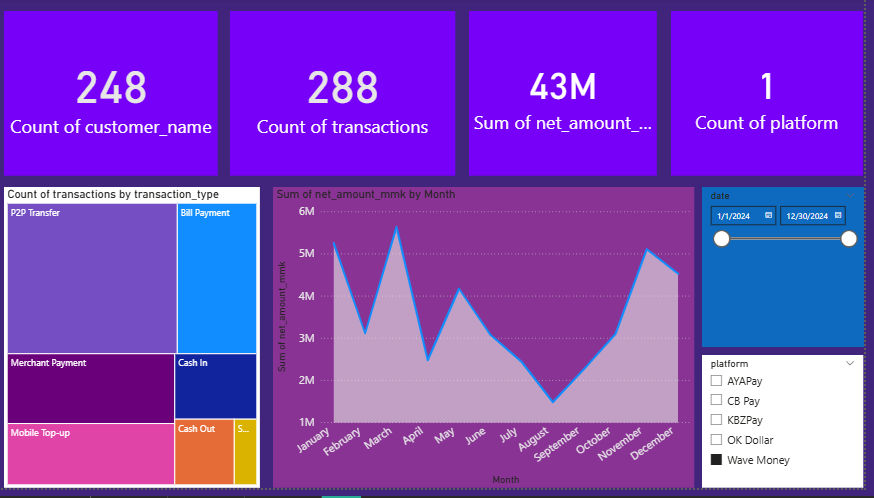

This screenshot's page, from the dashboard's own definition file:
{"tool":"powerbi","page":{"name":"Page 2","canvas":[1280,720],"ordinal":1},"visuals":[{"type":"card","fields":{"Values":["Count(myanmar_mobile_money_transactions.customer_name)"]},"box":[17.6,19.1,314.4,242.4],"z":0},{"type":"areaChart","fields":{"Category":["myanmar_mobile_money_transactions.date.Variation.Date Hierarchy.Month"],"Y":["Sum(myanmar_mobile_money_transactions.net_amount_mmk)"]},"box":[412.9,277.7,618.6,442.3],"z":1000},{"type":"card","fields":{"Values":["CountNonNull(myanmar_mobile_money_transactions.transactions)"]},"box":[349.7,19.1,330.6,242.4],"z":2000},{"type":"treemap","fields":{"Group":["myanmar_mobile_money_transactions.transaction_type"],"Values":["CountNonNull(myanmar_mobile_money_transactions.transactions)"]},"box":[17.6,277.7,376.2,442.3],"z":3000},{"type":"card","fields":{"Values":["Sum(myanmar_mobile_money_transactions.net_amount_mmk)"]},"box":[700.9,19.1,276.2,242.4],"z":4000},{"type":"slicer","fields":{"Values":["myanmar_mobile_money_transactions.date"]},"box":[1043.3,277.7,236.6,233.6],"z":5000},{"type":"slicer","fields":{"Values":["myanmar_mobile_money_transactions.platform"]},"box":[1043.3,524.6,236.6,195.4],"z":6000},{"type":"card","fields":{"Values":["Count(myanmar_mobile_money_transactions.platform)"]},"box":[997.7,19.1,282.1,242.4],"z":6001}]}

Visuals, with their boxes in screenshot pixels (x1, y1, x2, y2), scaled from the page's 1280x720 canvas onto the 874x498 screenshot:
card - Count(myanmar_mobile_money_transactions.customer_name): bbox=[12, 13, 227, 181]
areaChart - myanmar_mobile_money_transactions.date.Variation.Date Hierarchy.Month x Sum(myanmar_mobile_money_transactions.net_amount_mmk): bbox=[282, 192, 704, 497]
card - CountNonNull(myanmar_mobile_money_transactions.transactions): bbox=[239, 13, 465, 181]
treemap - myanmar_mobile_money_transactions.transaction_type x CountNonNull(myanmar_mobile_money_transactions.transactions): bbox=[12, 192, 269, 497]
card - Sum(myanmar_mobile_money_transactions.net_amount_mmk): bbox=[479, 13, 667, 181]
slicer - myanmar_mobile_money_transactions.date: bbox=[712, 192, 873, 354]
slicer - myanmar_mobile_money_transactions.platform: bbox=[712, 363, 873, 497]
card - Count(myanmar_mobile_money_transactions.platform): bbox=[681, 13, 873, 181]
